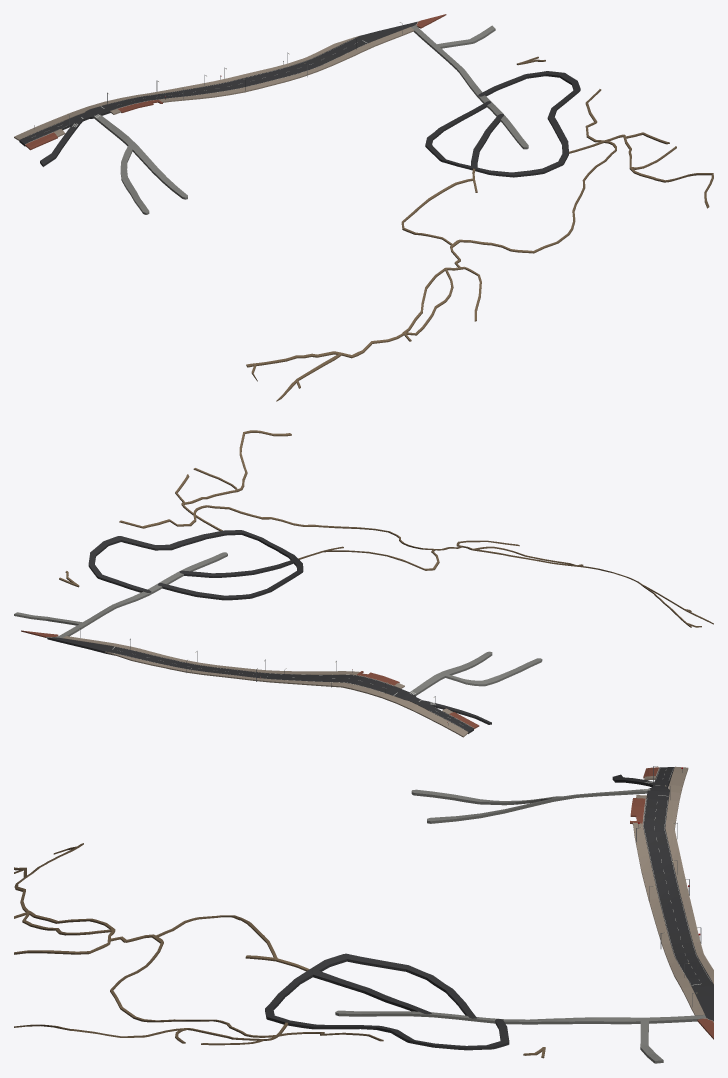
3 views of the same model, one above another, from view 1: azimuth 30°, elevation 25°; view 2: azimuth 150°, elevation 25°; view 3: azimuth 270°, elevation 25° (orthographic). The views are drawn at different scales.
Bounding box in the file's own units: 293 × 62.48 × 292.
